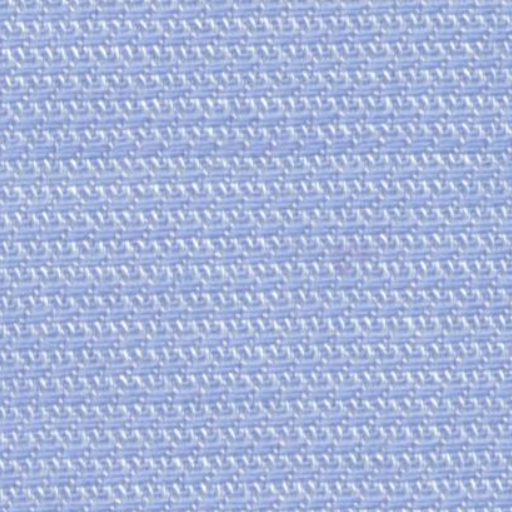TuoSha: (13, 102, 490, 188)
